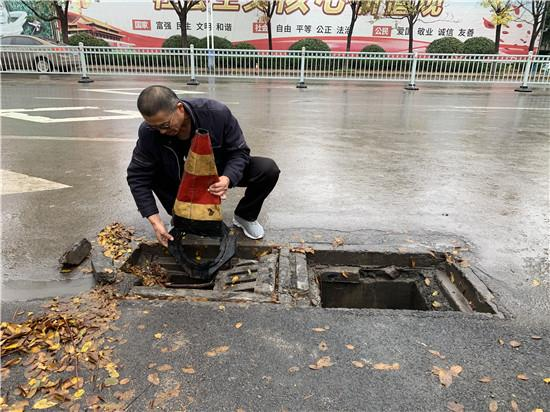lose: (86, 219, 512, 328)
